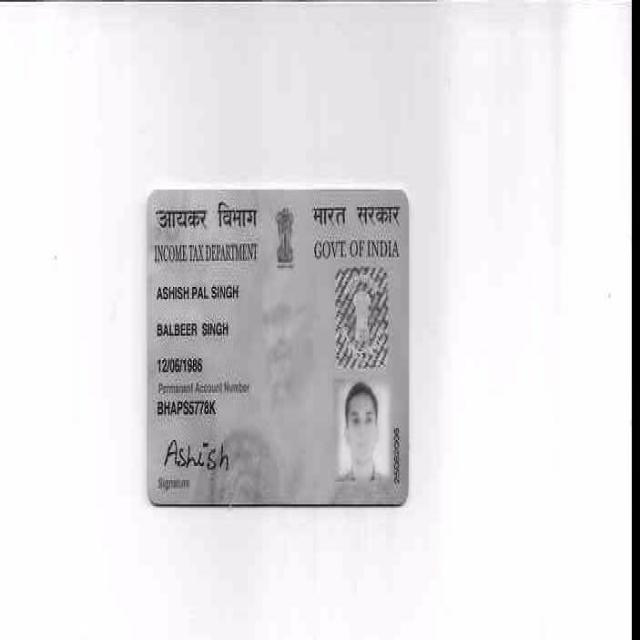pan_card: (145, 189, 408, 504)
